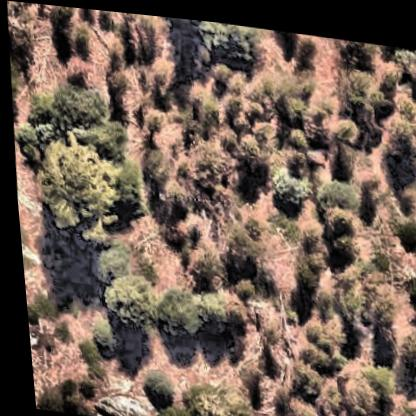tree-top: (20, 132, 129, 242), (31, 76, 114, 139), (191, 16, 266, 75), (98, 266, 162, 333), (147, 277, 210, 341), (323, 54, 387, 110), (173, 376, 258, 416), (307, 168, 365, 219), (215, 234, 268, 288), (349, 351, 401, 403), (260, 158, 313, 208), (316, 267, 364, 317), (131, 141, 179, 189), (133, 364, 175, 407), (281, 360, 324, 400), (286, 254, 326, 296), (91, 238, 130, 278), (7, 26, 40, 66), (84, 315, 117, 354), (22, 293, 56, 324), (390, 210, 416, 250), (395, 326, 416, 369), (401, 266, 416, 306)
